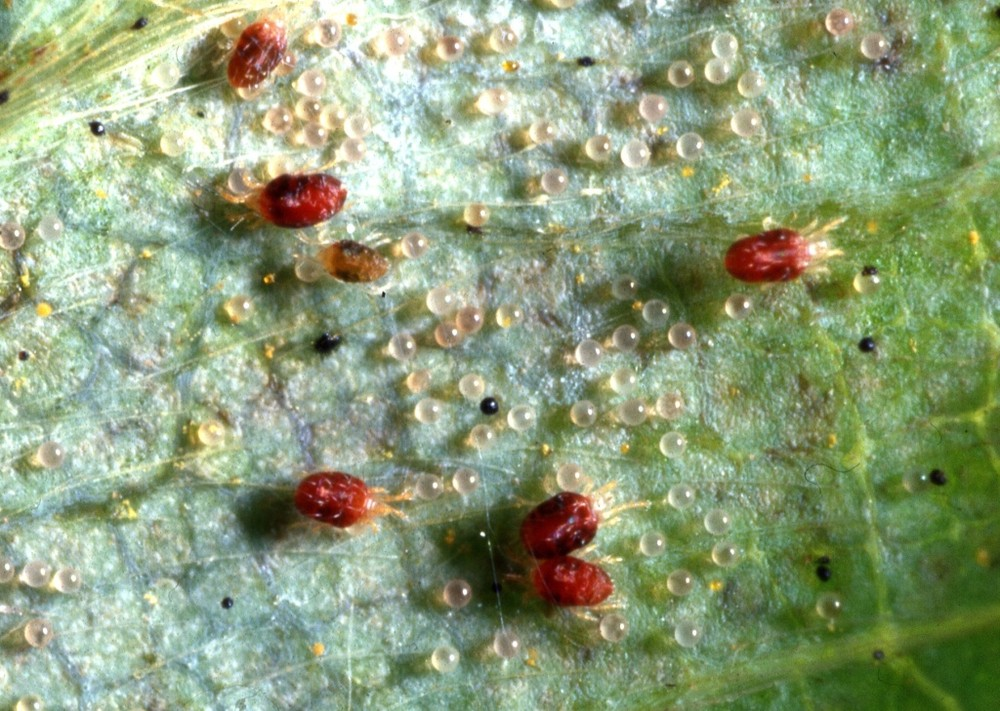Aracnido Rojo: (708, 194, 856, 301), (276, 451, 432, 551), (505, 464, 662, 560), (489, 541, 642, 625), (205, 151, 350, 228), (196, 13, 312, 106), (291, 221, 403, 304)
